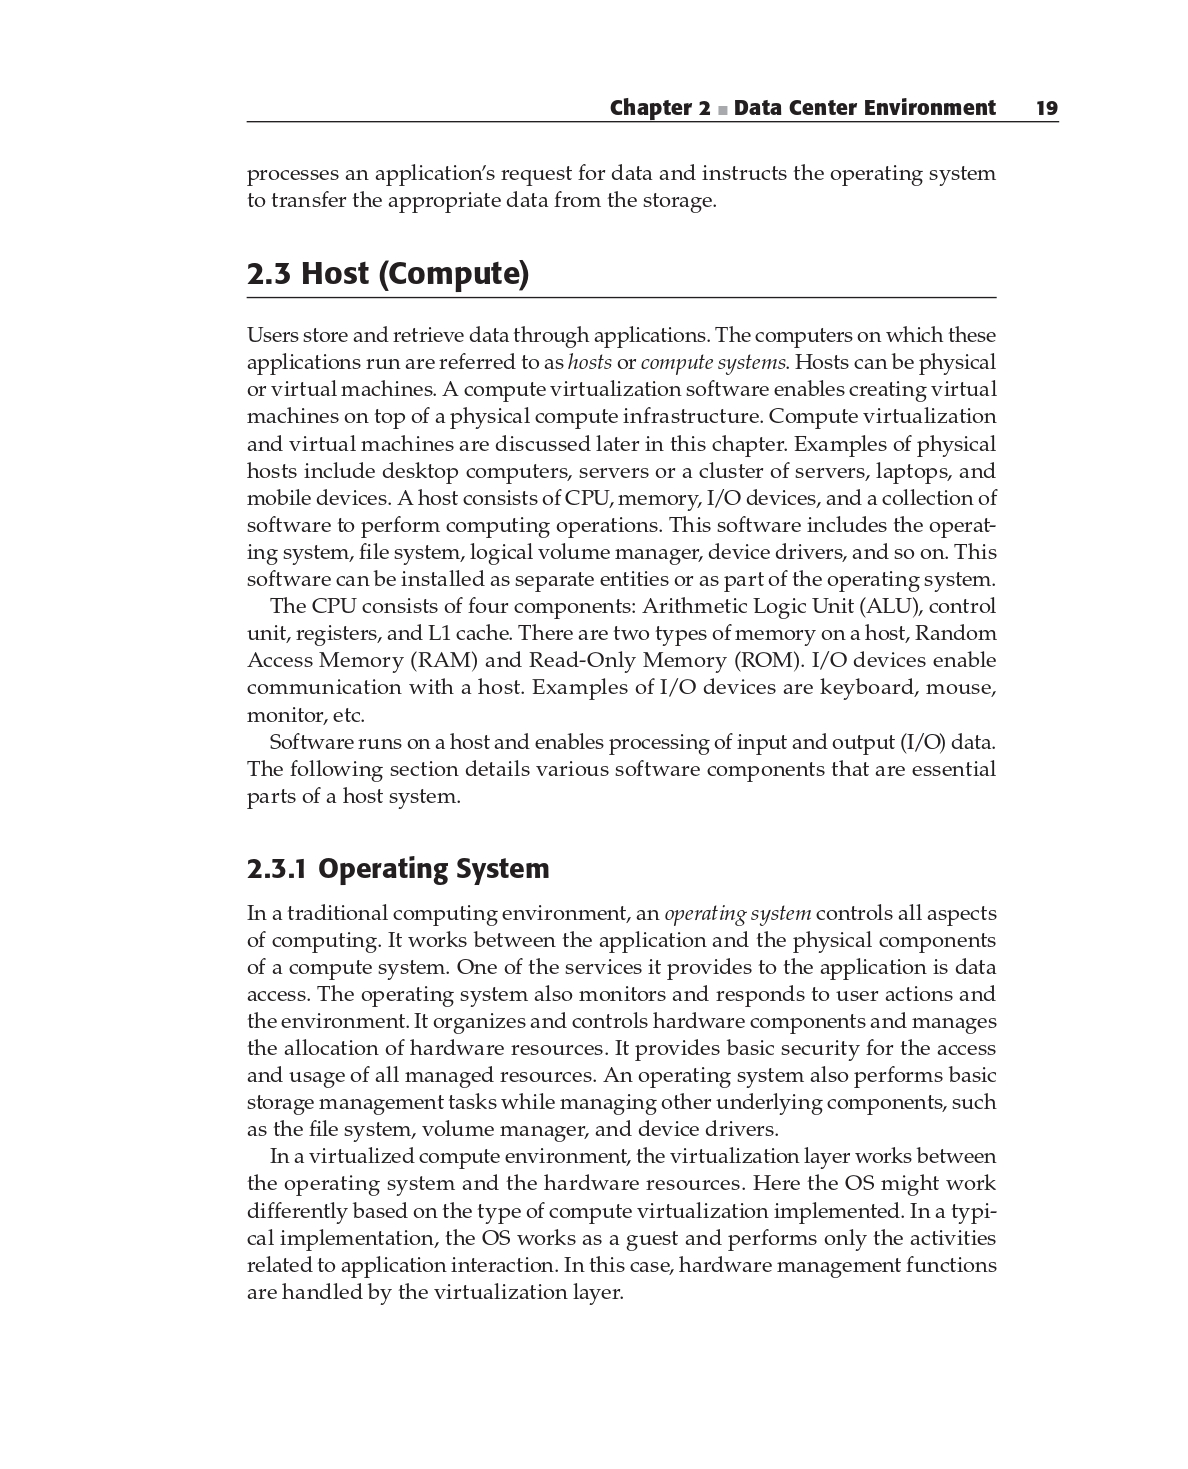Paragraph: (240, 309, 999, 596), (240, 899, 1001, 1133), (245, 1139, 1005, 1311), (242, 599, 996, 719), (242, 725, 1001, 808), (240, 149, 1007, 230), (607, 85, 1069, 120), (240, 251, 543, 295), (240, 853, 552, 888)
